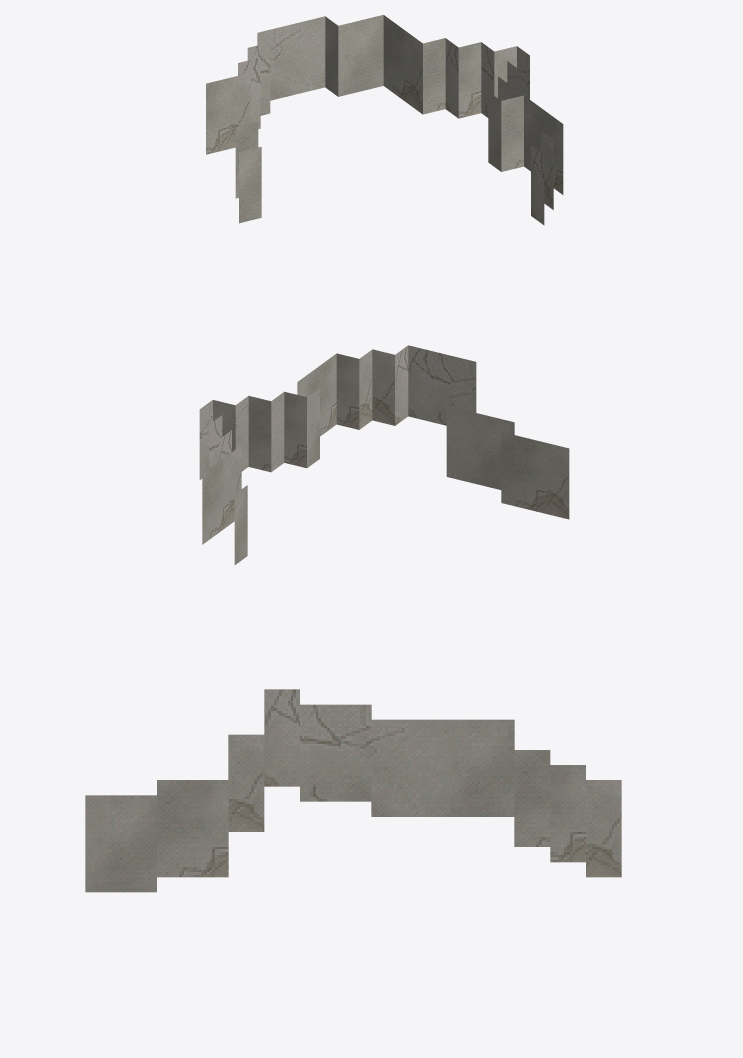
File: house_ceiling_hole.glb
The picture shows the model from 3 angles, top to bottom: view 1: azimuth 30°, elevation 25°; view 2: azimuth 150°, elevation 25°; view 3: azimuth 270°, elevation 25°; orthographic projection. The views are drawn at different scales.
Parts seen in each view (by area): view 1: house_ceiling_hole; view 2: house_ceiling_hole; view 3: house_ceiling_hole.
Boxes of the visible parts, <box> form: house_ceiling_hole: <box>206,15,563,225</box>; house_ceiling_hole: <box>199,345,569,564</box>; house_ceiling_hole: <box>85,689,621,892</box>.
Size of the model in its own units: 2 by 0.3 by 2.
Materials: 1 (1 with a texture image).
